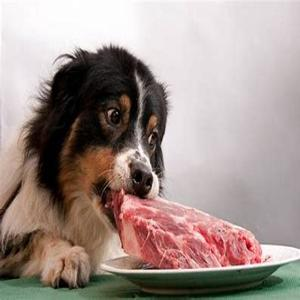dog: (14, 55, 166, 287)
